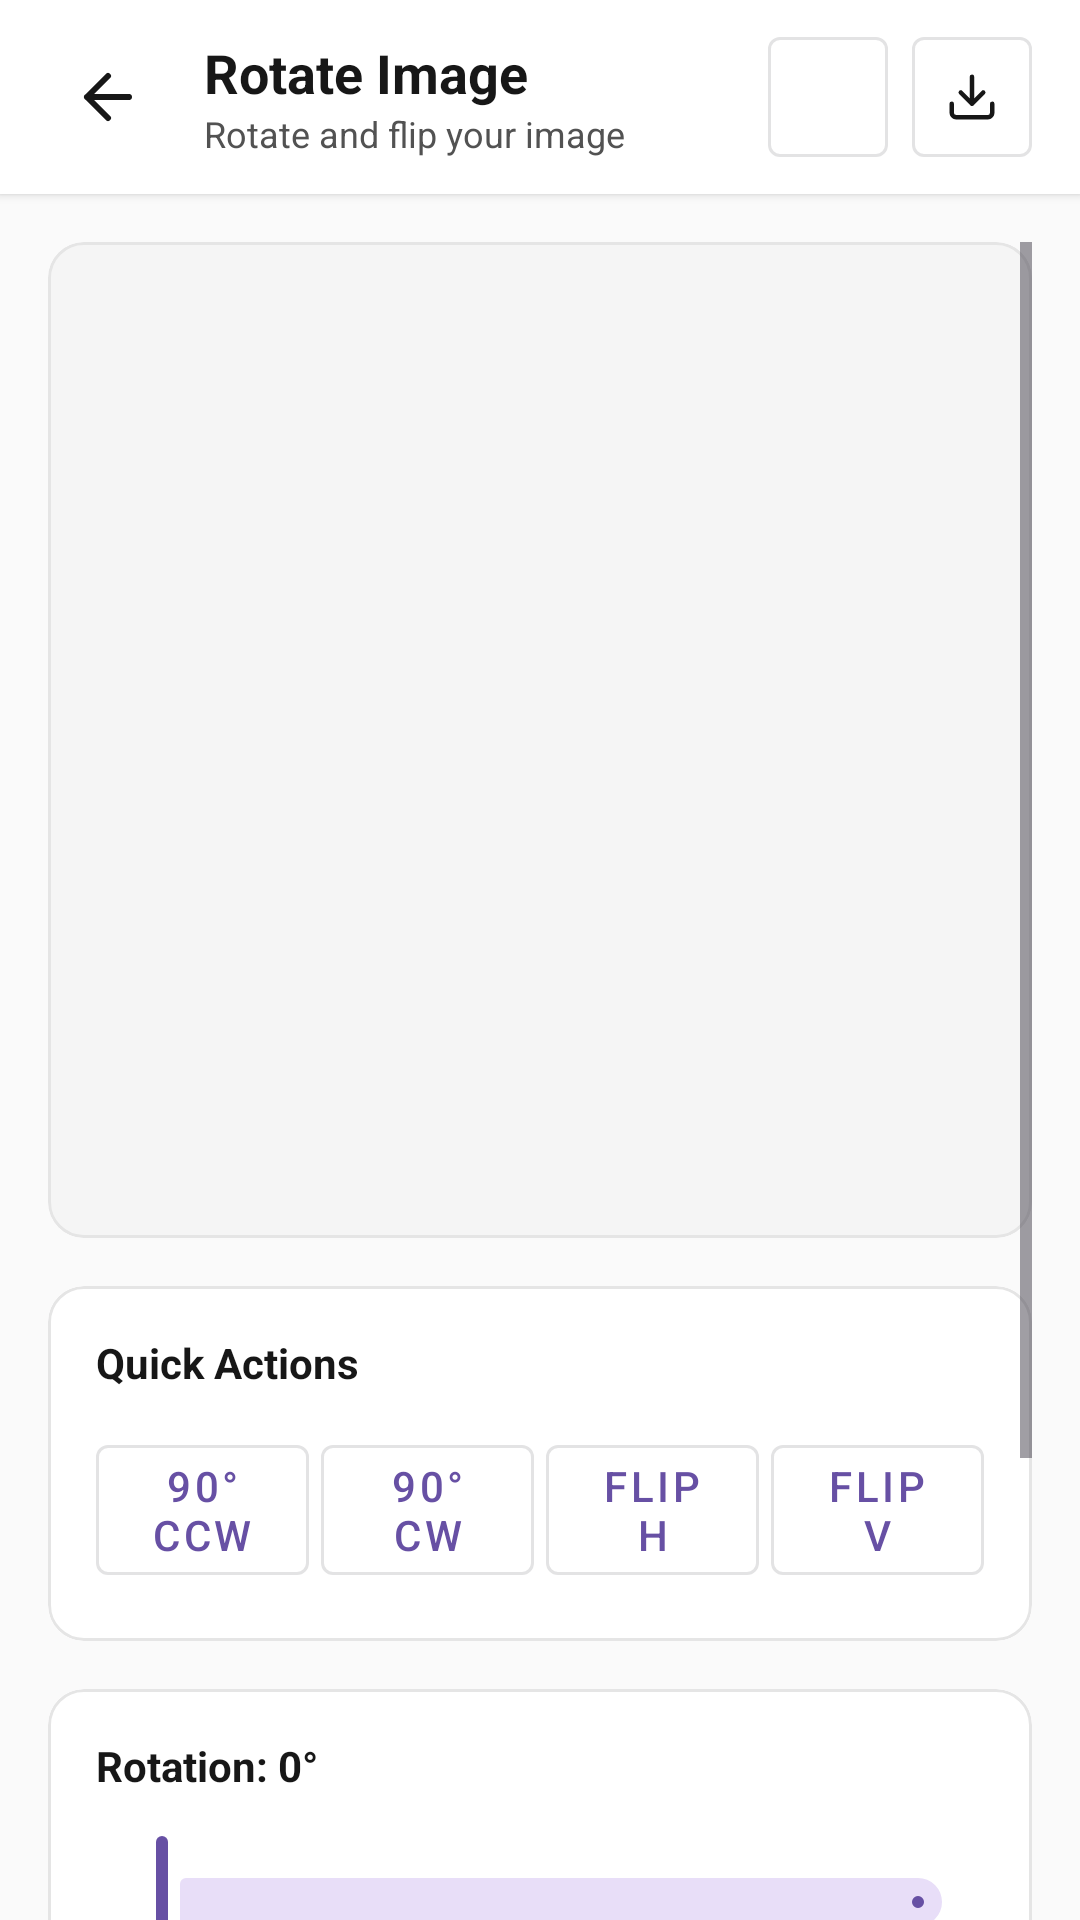

Icons on this 1080*1920 Android screen, each with its box as rect(x1, y1, x2, y2):
arrow left: rect(84, 73, 132, 121)
download: rect(912, 37, 1032, 157)
